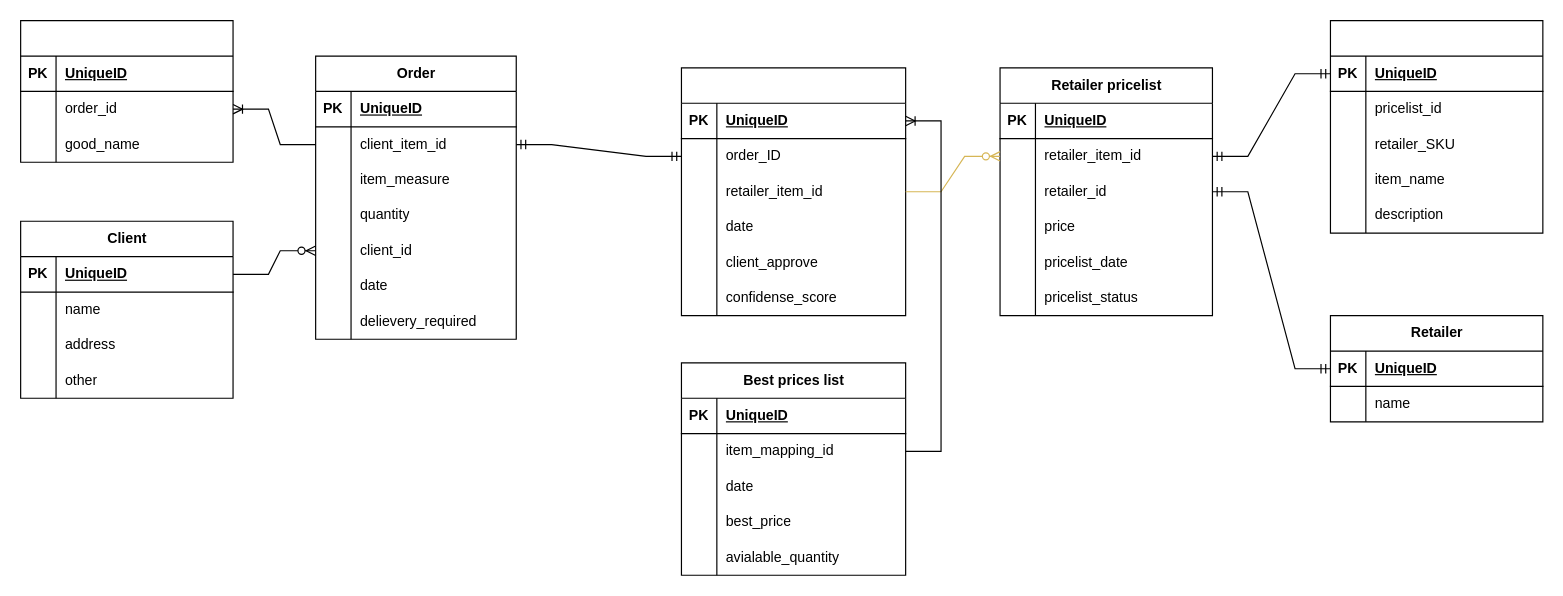
Some shapes in this 1563 by 596 pixel diagram are drawn without their labels. Each missing label, with the box of its shape:
Client item: (19, 19, 233, 162)
Item mapping: (680, 67, 906, 316)
Retailer item: (1329, 19, 1543, 233)
